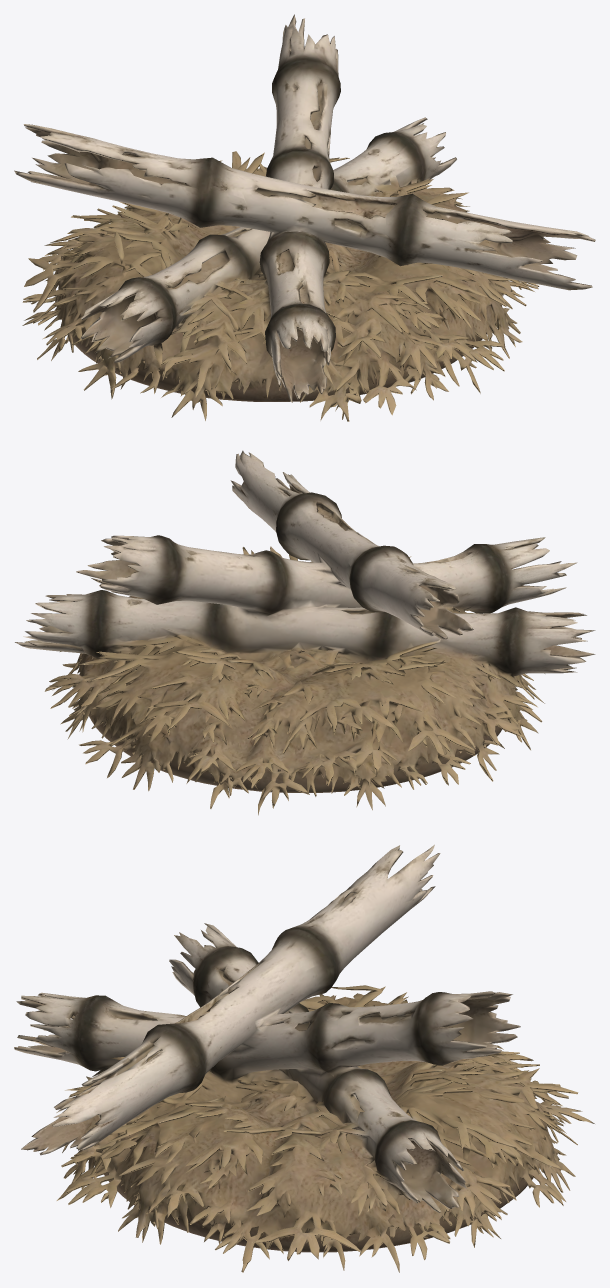
Rendered from fallen_bamboo.glb.
3 renders of one model, top to bottom at view 1: azimuth 30°, elevation 25°; view 2: azimuth 150°, elevation 25°; view 3: azimuth 270°, elevation 25°, orthographic. The views are drawn at different scales.
Visible parts, largest first — view 1: tripo_node_9a48c980-4db3-4b66-9ae0-4c35e0959339; view 2: tripo_node_9a48c980-4db3-4b66-9ae0-4c35e0959339; view 3: tripo_node_9a48c980-4db3-4b66-9ae0-4c35e0959339.
Part boxes in pixels (x1,y1,x2,y2): tripo_node_9a48c980-4db3-4b66-9ae0-4c35e0959339: (14, 14, 595, 421); tripo_node_9a48c980-4db3-4b66-9ae0-4c35e0959339: (15, 450, 595, 815); tripo_node_9a48c980-4db3-4b66-9ae0-4c35e0959339: (14, 844, 594, 1272).
Size of the model in its own units: 1 by 0.4258 by 0.9693.
1 material, 1 textured.
